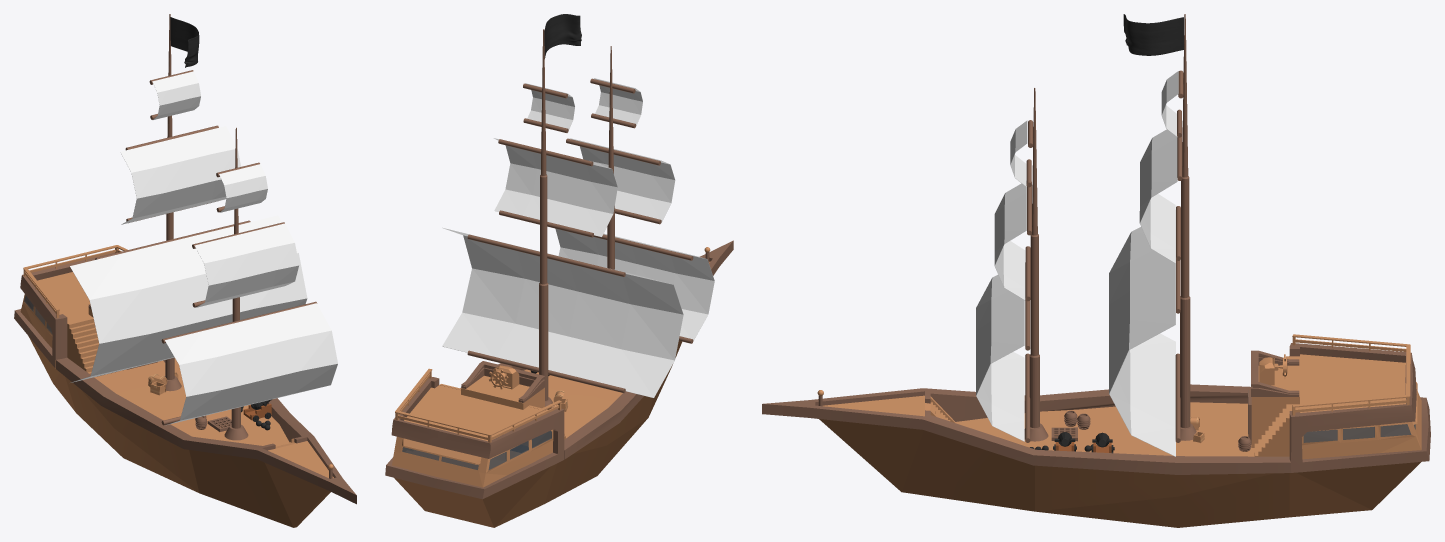
File: Pirateship.fbx
3 renders of one model, left to right at view 1: azimuth 30°, elevation 25°; view 2: azimuth 150°, elevation 25°; view 3: azimuth 270°, elevation 25°, orthographic. The views are drawn at different scales.
Parts seen in each view (by area): view 1: Pirate Ship, Plane003.001, Plane003, Plane002.001, Plane002, Plane001.001, Plane001, StraightStair001, Plane004.001, Cylinder001, Cylinder001.001, Cabin001 (+1 smaller); view 2: Plane003.001, Pirate Ship, Plane002.001, Plane003, Cabin001, Plane002, Cylinder001.001, Plane001, Plane001.001, Plane004.001, Wheel, Cylinder001 (+8 smaller); view 3: Pirate Ship, Plane003.001, Plane003, Plane002.001, Cabin001, Cylinder001.001, Plane002, Cylinder001, Plane004.001, StraightStair002, Wheel, Railing002 (+2 smaller).
Part boxes in pixels (<box>): Pirate Ship: <box>14,252,356,527</box>; Plane003.001: <box>70,215,307,382</box>; Plane003: <box>165,303,337,425</box>; Plane002.001: <box>120,126,240,224</box>; Plane002: <box>194,223,299,307</box>; Plane001.001: <box>152,71,200,119</box>; Plane001: <box>219,164,267,212</box>; StraightStair001: <box>67,317,99,374</box>; Plane004.001: <box>170,17,199,67</box>; Cylinder001: <box>224,127,248,440</box>; Cylinder001.001: <box>164,14,181,391</box>; Cabin001: <box>20,294,52,348</box>; Plane003.001: <box>442,227,683,397</box>; Pirate Ship: <box>385,240,733,527</box>; Plane002.001: <box>493,138,617,237</box>; Plane003: <box>555,228,714,340</box>; Cabin001: <box>392,429,553,487</box>; Plane002: <box>569,138,675,222</box>; Cylinder001.001: <box>539,29,552,406</box>; Plane001: <box>593,78,642,126</box>; Plane001.001: <box>525,83,574,130</box>; Plane004.001: <box>544,14,581,58</box>; Wheel: <box>461,361,545,402</box>; Cylinder001: <box>607,46,614,269</box>; Pirate Ship: <box>762,343,1430,527</box>; Plane003.001: <box>1109,210,1175,456</box>; Plane003: <box>976,275,1024,441</box>; Plane002.001: <box>1139,129,1177,263</box>; Cabin001: <box>1302,382,1421,459</box>; Cylinder001.001: <box>1180,14,1196,440</box>; Plane002: <box>994,181,1026,300</box>; Cylinder001: <box>1024,88,1048,441</box>; Plane004.001: <box>1123,14,1183,55</box>; StraightStair002: <box>1251,404,1289,456</box>; Wheel: <box>1251,350,1299,396</box>; Railing002: <box>1292,395,1409,415</box>.
Size of the model in its own units: 4816 by 9484 by 11835.
